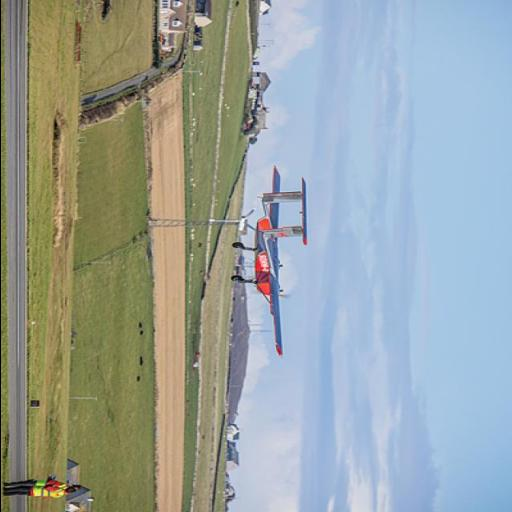uav: (232, 161, 310, 359)
